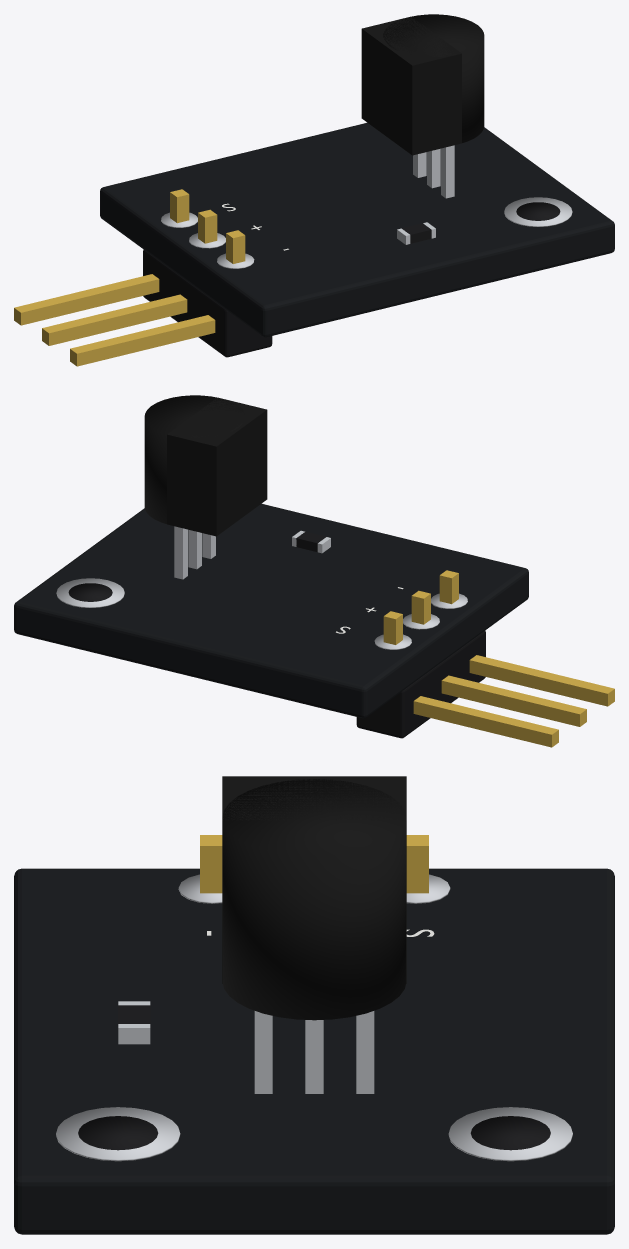
File: ds18b20-temperature-sensor.glb
The picture shows the model from 3 angles, top to bottom: view 1: azimuth 30°, elevation 25°; view 2: azimuth 150°, elevation 25°; view 3: azimuth 270°, elevation 25°; orthographic projection. The views are drawn at different scales.
Visible parts, largest first — view 1: pcb, to92_flat, to92, header, pin_h, pin_h.002, pin_h.001, hole_ring.001, leg, hole.001, pin_v.001, pin_v (+2 smaller); view 2: pcb, to92_flat, to92, header, pin_h, pin_h.002, pin_h.001, hole_ring, leg.002, hole, pin_v.001, pin_v.002 (+2 smaller); view 3: pcb, to92, to92_flat, hole_ring, hole_ring.001, hole, hole.001, leg, leg.002, leg.001, pin_v, pin_v.002 (+4 smaller).
Boxes of the visible parts, box(x1,y1,x2,y2) form: pcb: box(100, 122, 614, 337); to92_flat: box(361, 16, 461, 155); to92: box(383, 14, 484, 142); header: box(143, 249, 272, 357); pin_h: box(14, 274, 159, 325); pin_h.002: box(70, 315, 215, 366); pin_h.001: box(42, 294, 187, 345); hole_ring.001: box(504, 197, 572, 226); leg: box(441, 145, 454, 198); hole.001: box(516, 202, 560, 220); pin_v.001: box(198, 209, 217, 243); pin_v: box(170, 189, 189, 223); pcb: box(14, 503, 528, 718); to92_flat: box(167, 397, 267, 536); to92: box(144, 395, 245, 523); header: box(356, 630, 485, 738); pin_h: box(413, 696, 558, 747); pin_h.002: box(469, 655, 614, 706); pin_h.001: box(441, 675, 586, 726); hole_ring: box(56, 578, 124, 607); leg.002: box(174, 526, 187, 579); hole: box(68, 583, 112, 601); pin_v.001: box(411, 590, 430, 624); pin_v.002: box(439, 570, 458, 604); pcb: box(14, 868, 614, 1234); to92: box(222, 779, 406, 1020); to92_flat: box(222, 776, 406, 983); hole_ring: box(448, 1107, 572, 1161); hole_ring.001: box(56, 1107, 180, 1161); hole: box(470, 1116, 550, 1150); hole.001: box(78, 1116, 158, 1150); leg: box(254, 1011, 272, 1093); leg.002: box(356, 1011, 374, 1093); leg.001: box(305, 1020, 323, 1093); pin_v: box(406, 835, 428, 893); pin_v.002: box(200, 835, 222, 893).
Size of the model in its own units: 0.0256 by 0.0116 by 0.015.
